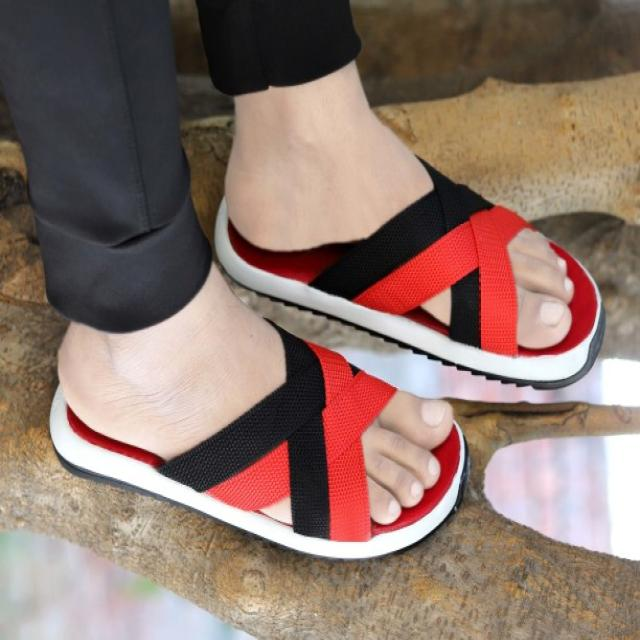Sandals: (51, 292, 462, 558), (223, 159, 605, 381)
